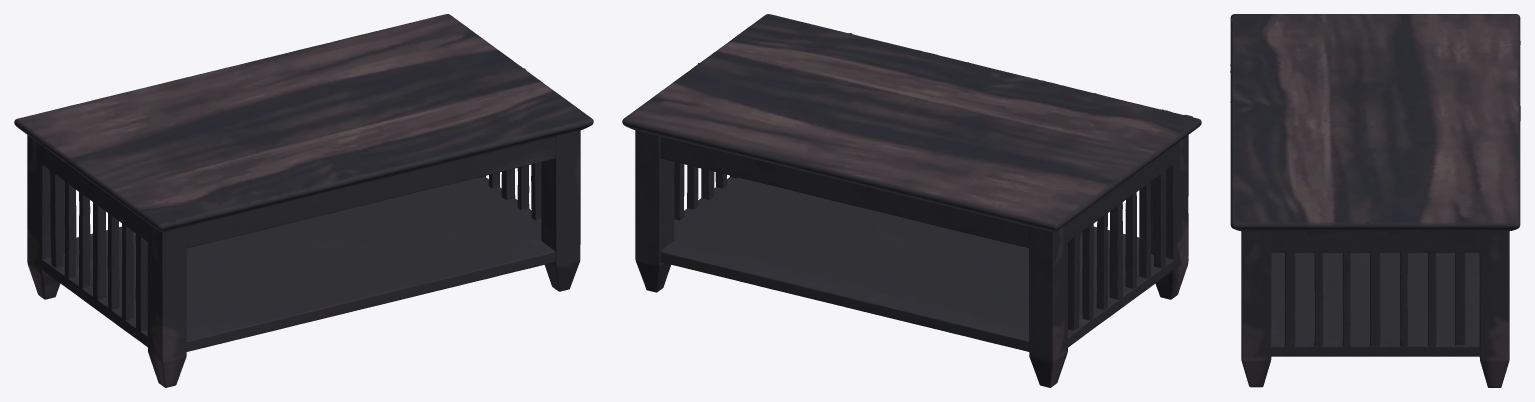
The model's file is enfurnish-sheesham-wood-coffee-table-with-shelf-walnut-finis.glb.
3 views of the same model, side by side, from view 1: azimuth 30°, elevation 25°; view 2: azimuth 150°, elevation 25°; view 3: azimuth 270°, elevation 25° (orthographic).
Size of the model in its own units: 1.9 by 0.7263 by 1.11.
Materials: 1 (1 with a texture image).
